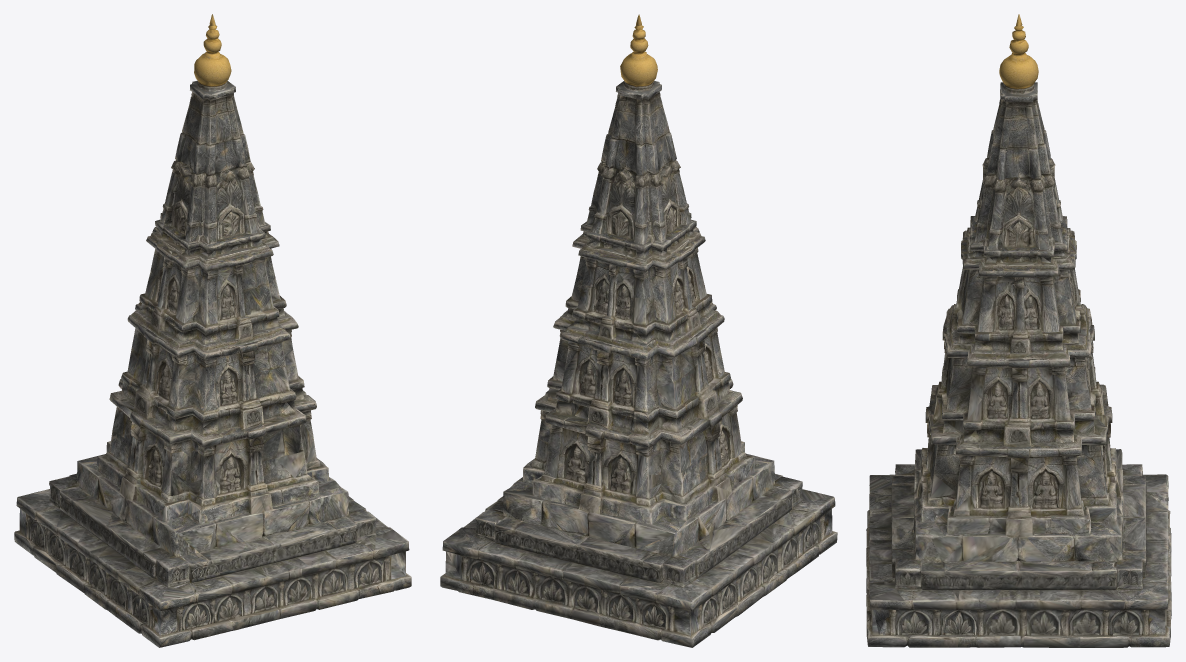
The model's file is shikhara.glb.
The picture shows the model from 3 angles, left to right: view 1: azimuth 30°, elevation 25°; view 2: azimuth 150°, elevation 25°; view 3: azimuth 270°, elevation 25°; orthographic projection. The views are drawn at different scales.
Visible parts, largest first — view 1: shikhara; view 2: shikhara; view 3: shikhara.
Part boxes in pixels (bbox=[...]): shikhara: bbox=[14, 14, 411, 647]; shikhara: bbox=[440, 14, 837, 647]; shikhara: bbox=[866, 14, 1171, 647].
Bounding box in the file's own units: 3.99 × 8.2 × 3.98.
Materials: 1 (1 with a texture image).
